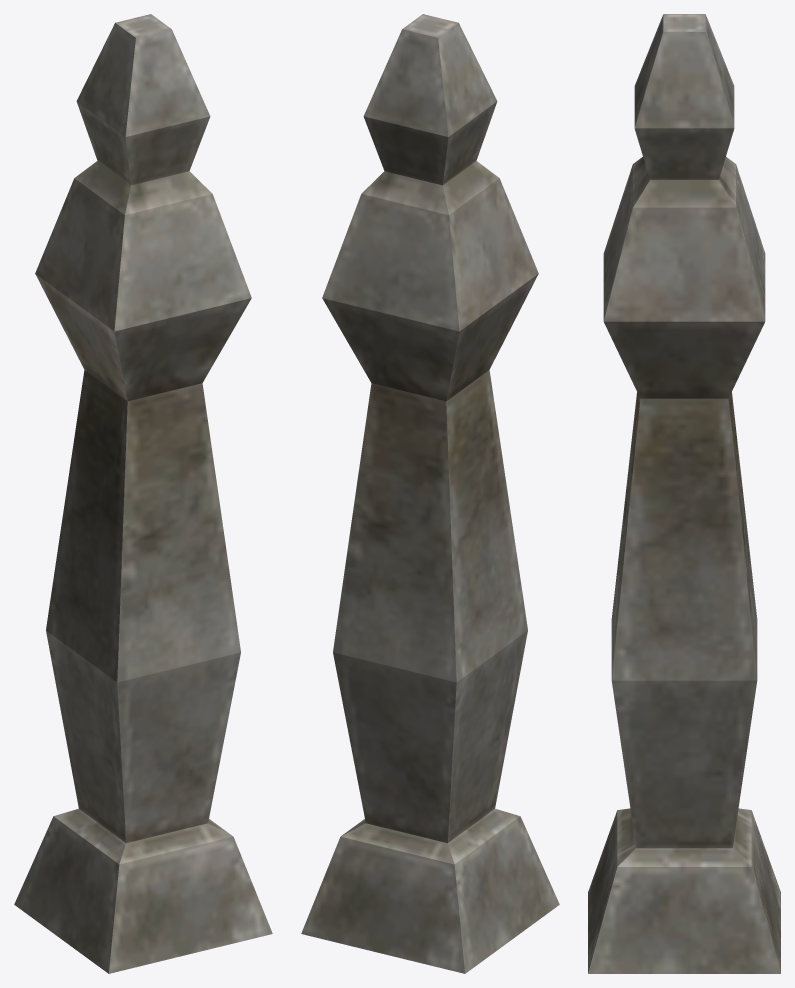
File: bg_lut_lucastle_arenafence01c_sm_bjh.FBX
3 views of the same model, side by side, from view 1: azimuth 30°, elevation 25°; view 2: azimuth 150°, elevation 25°; view 3: azimuth 270°, elevation 25° (orthographic).
Parts seen in each view (by area): view 1: bg_lut_lucastle_arenafence01c_sm_bjh; view 2: bg_lut_lucastle_arenafence01c_sm_bjh; view 3: bg_lut_lucastle_arenafence01c_sm_bjh.
Part boxes in pixels (box(x1,y1,x2,y2)): bg_lut_lucastle_arenafence01c_sm_bjh: box(14, 14, 272, 973); bg_lut_lucastle_arenafence01c_sm_bjh: box(301, 14, 559, 973); bg_lut_lucastle_arenafence01c_sm_bjh: box(588, 14, 780, 973).
Bounding box in the file's own units: 25.95 × 135 × 25.95.
